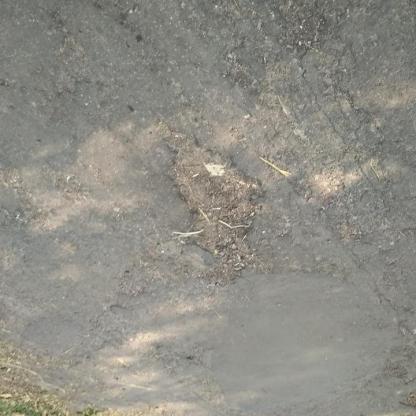pothole: (160, 130, 271, 289)
